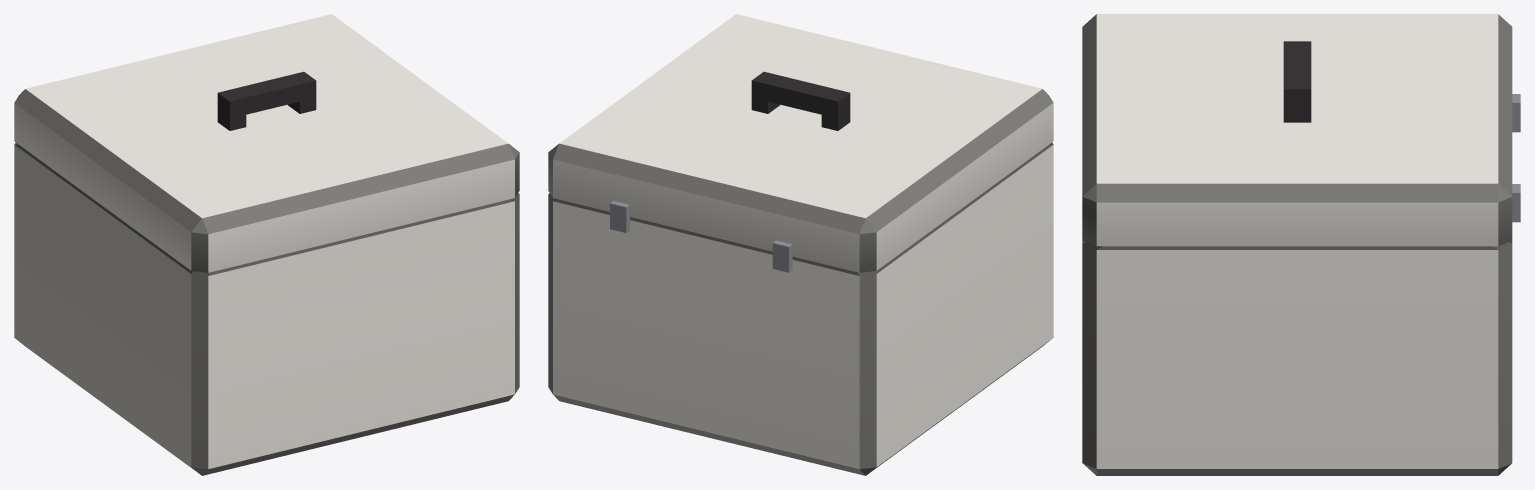
Rendered from g_o_medicine.fbx.
3 renders of one model, left to right at view 1: azimuth 30°, elevation 25°; view 2: azimuth 150°, elevation 25°; view 3: azimuth 270°, elevation 25°, orthographic. The views are drawn at different scales.
Visible parts, largest first — view 1: medicine; view 2: medicine; view 3: medicine.
Part boxes in pixels (bbox=[...]): medicine: bbox=[14, 14, 519, 475]; medicine: bbox=[548, 14, 1053, 475]; medicine: bbox=[1082, 14, 1520, 475].
Size of the model in its own units: 0.2 by 0.1672 by 0.2038.
